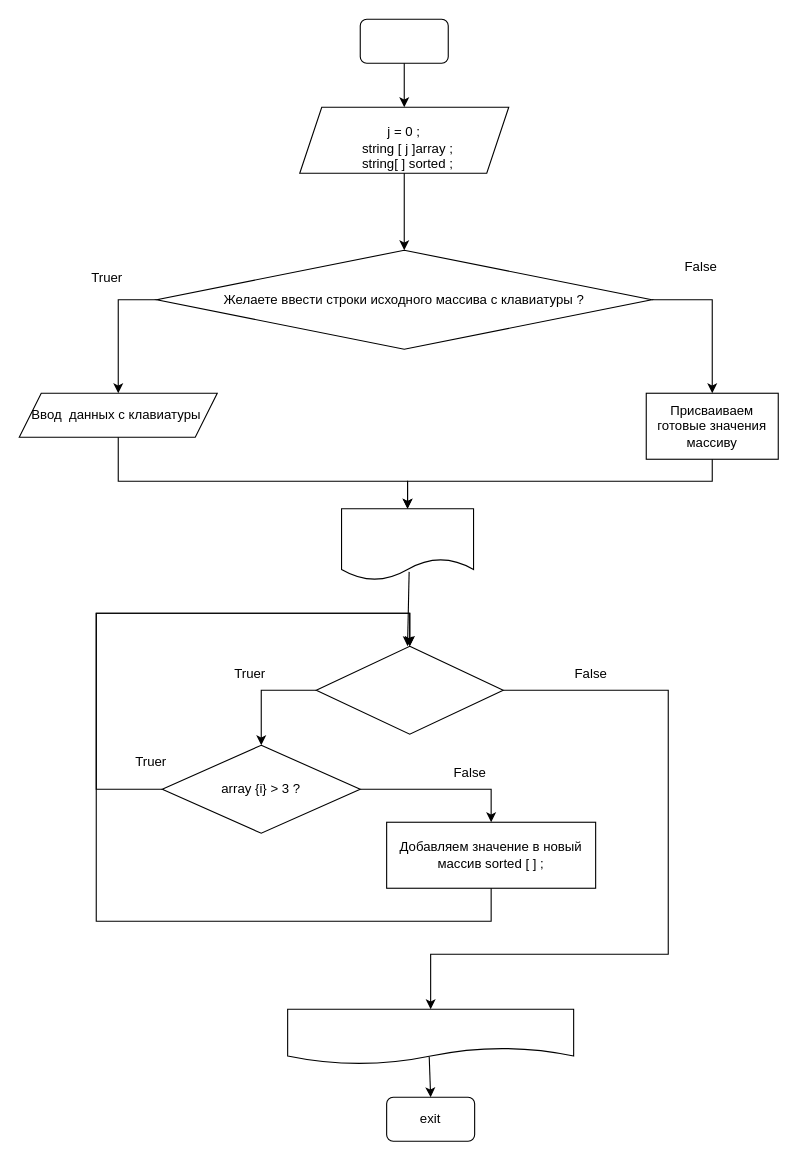
Some shapes in this 798 by 1161 pixel diagram are drawn without their labels. The centre of each missing label's shape, as x and y in pixels:
"j < Length - 1 ?" belongs at point 409,689.
"start" belongs at point 403,40.
"Вывод на зкран массива rsorted [ ]" belongs at point 430,1036.
"Печатаем исходный массив string [ ] array" belongs at point 407,544.
